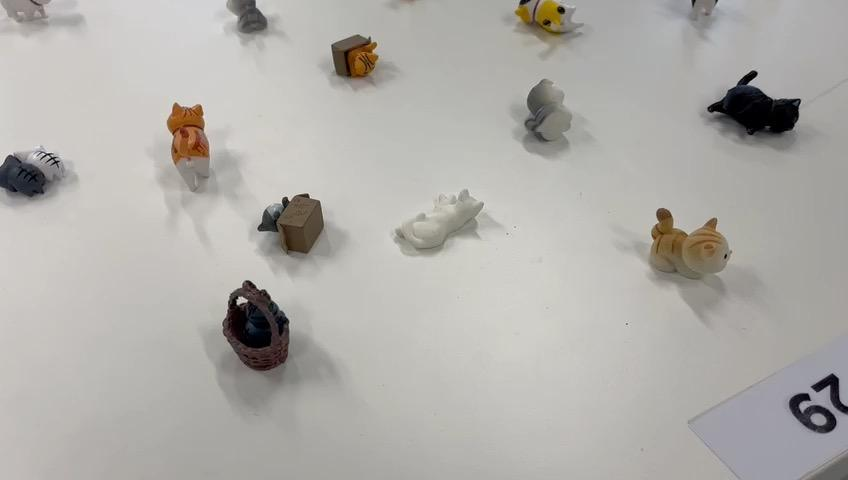pet: (698, 65, 807, 143), (645, 200, 736, 286), (218, 274, 295, 374), (390, 186, 486, 259), (161, 97, 221, 192), (254, 186, 327, 258), (0, 138, 66, 205), (521, 74, 575, 144), (507, 0, 589, 43), (327, 29, 384, 81), (220, 0, 270, 37)
